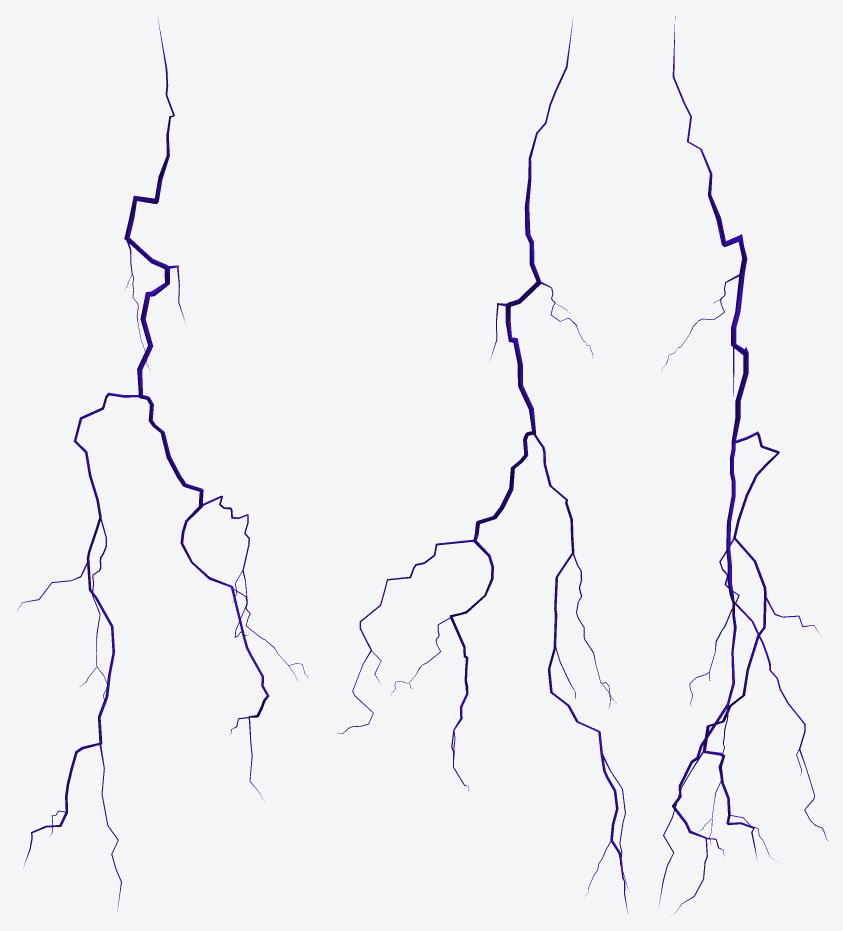
The model's file is SM_EFF_Env_Lightning_01.mo.fbx.
3 views of the same model, side by side, from view 1: azimuth 30°, elevation 25°; view 2: azimuth 150°, elevation 25°; view 3: azimuth 270°, elevation 25° (orthographic). The views are drawn at different scales.
Visible parts, largest first — view 1: SM_EFF_Env_Lightning_01.mo; view 2: SM_EFF_Env_Lightning_01.mo; view 3: SM_EFF_Env_Lightning_01.mo.
Boxes of the visible parts, x1,y1,x2,y2 form: SM_EFF_Env_Lightning_01.mo: (17,17,307,910); SM_EFF_Env_Lightning_01.mo: (338,18,628,914); SM_EFF_Env_Lightning_01.mo: (659,16,827,915).
Size of the model in its own units: 0.5109 by 1.64 by 0.2759.
